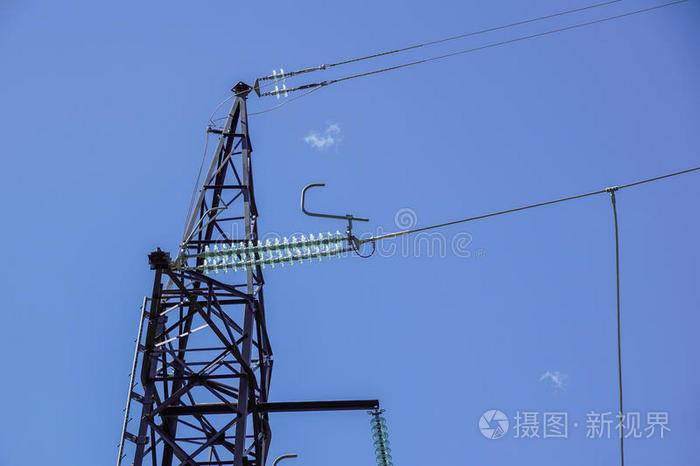insulator: (202, 231, 342, 275), (369, 413, 393, 466)
